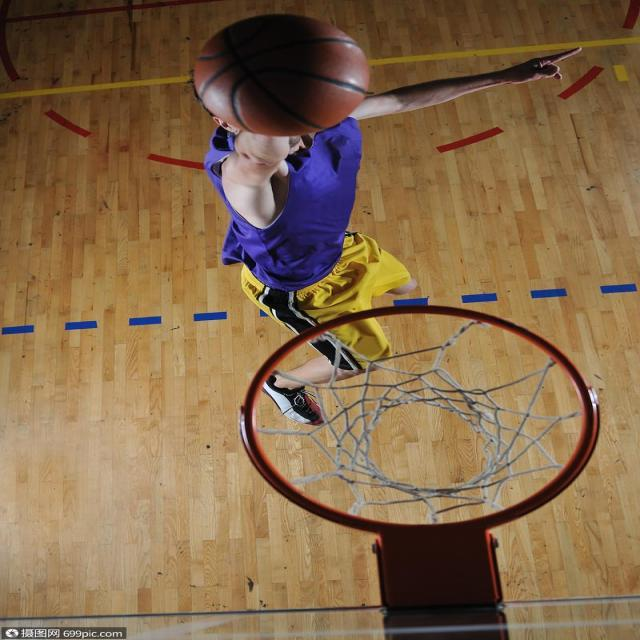rim: (191, 13, 368, 136)
